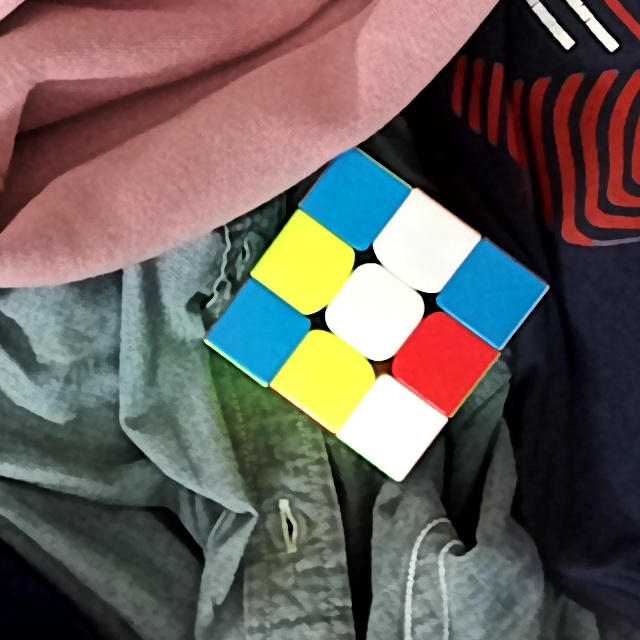tile: (343, 285, 398, 343), (462, 268, 518, 323), (330, 169, 385, 224), (230, 309, 286, 363), (395, 219, 449, 275), (300, 354, 357, 407), (363, 400, 419, 453), (414, 337, 466, 393), (280, 238, 334, 291)
